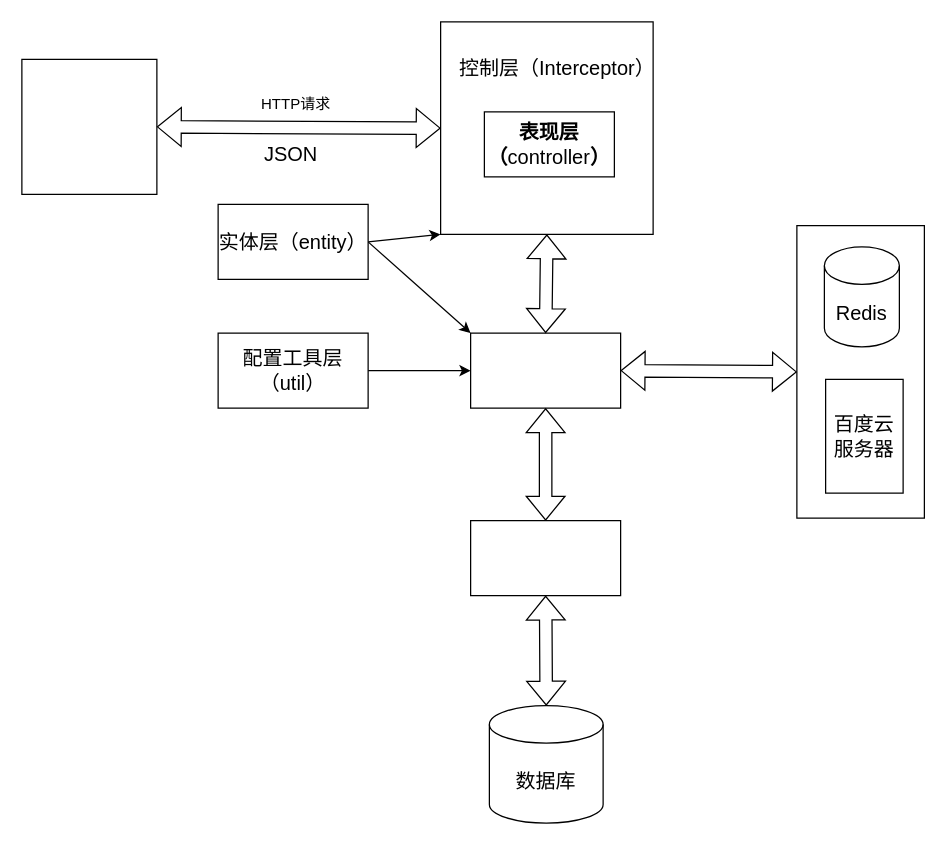
Image size: 946x845. Some labels were removed from this diagram. Each missing label, with the box of its shape:
业务逻辑层（service）: (469, 332, 621, 408)
前端系统: (21, 58, 157, 194)
数据访问层（mapper）: (469, 519, 621, 596)
